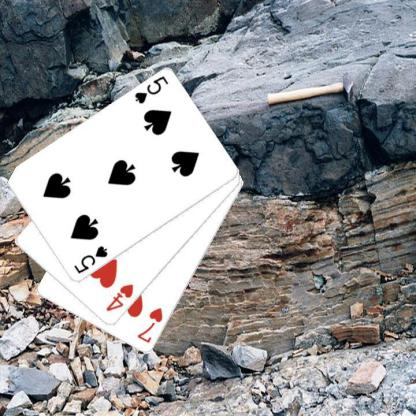4H: (102, 282, 134, 314)
5S: (71, 243, 109, 276), (132, 73, 169, 106)
7H: (135, 305, 164, 345)
